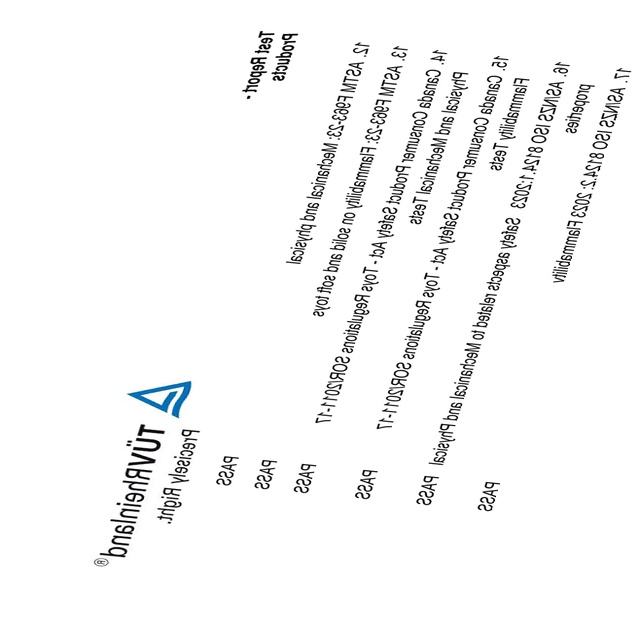tuv_rheinland: (91, 376, 196, 573)
